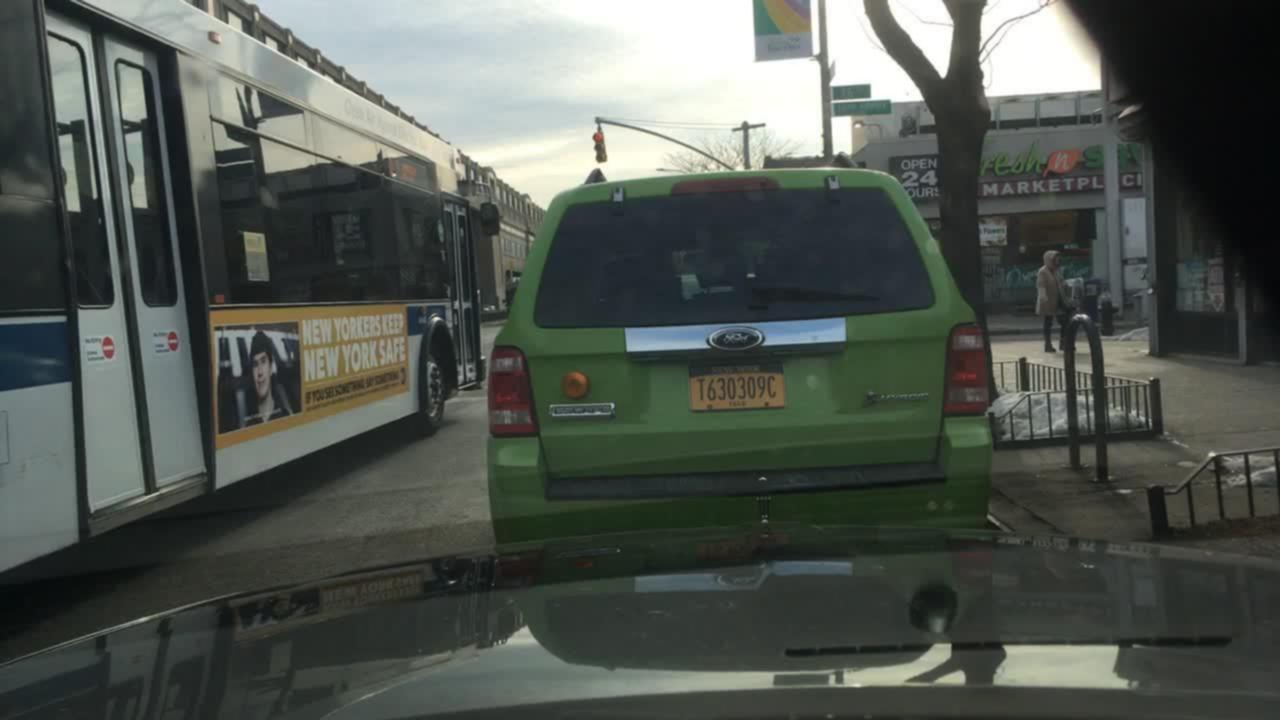ford: (696, 318, 777, 364)
